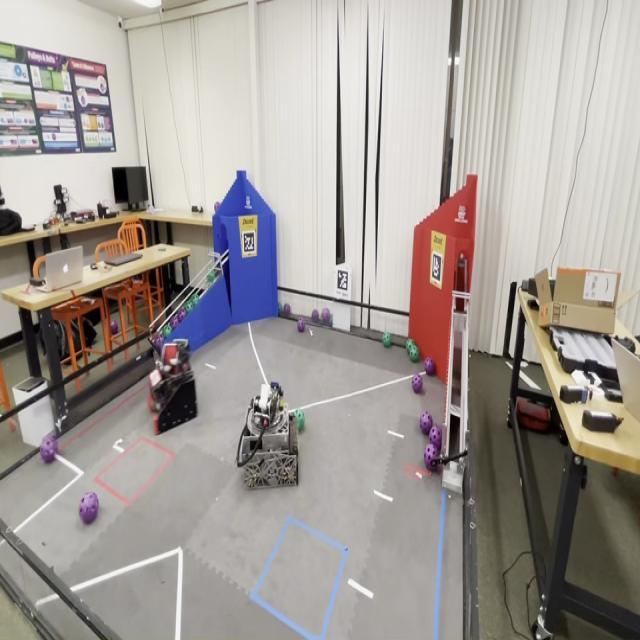artifact_green: (294, 409, 305, 432), (153, 331, 163, 353), (409, 344, 419, 362), (410, 344, 419, 362), (321, 309, 331, 324), (110, 320, 119, 336), (178, 307, 187, 322), (382, 332, 391, 347), (185, 300, 193, 314), (406, 339, 415, 351), (163, 324, 171, 337), (283, 304, 291, 316), (207, 271, 215, 283), (191, 293, 199, 305), (312, 310, 319, 323), (406, 338, 414, 349), (187, 294, 194, 303), (407, 345, 413, 355), (190, 291, 198, 298), (410, 343, 417, 350), (278, 303, 282, 314), (408, 338, 415, 344), (330, 315, 333, 327)
artifact_purple: (79, 492, 99, 523), (40, 437, 57, 463), (424, 444, 439, 470), (429, 426, 442, 451), (420, 412, 433, 434), (412, 375, 422, 393), (425, 358, 435, 375), (153, 334, 163, 351), (178, 307, 187, 322), (170, 315, 179, 329), (322, 309, 331, 323), (110, 320, 118, 335), (282, 303, 290, 317), (312, 310, 319, 323), (298, 318, 305, 331), (214, 202, 221, 212)
